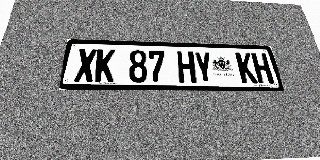7: (148, 50, 166, 83)
8: (129, 50, 147, 83)
H: (251, 53, 274, 83), (177, 51, 196, 83)
K: (94, 49, 116, 82), (235, 52, 258, 83)
X: (74, 48, 97, 82)
Y: (193, 51, 214, 83)
